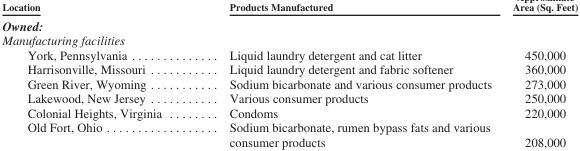table: (1, 0, 577, 148)
table column: (194, 0, 501, 148), (1, 0, 194, 148), (501, 0, 577, 148)
table column header: (1, 0, 577, 15)
table projected row header: (1, 15, 577, 32), (1, 32, 577, 46)
table row: (1, 119, 577, 148), (1, 15, 577, 32), (1, 0, 577, 15), (1, 46, 577, 61), (1, 61, 577, 76), (1, 90, 577, 105), (1, 32, 577, 46), (1, 76, 577, 90), (1, 105, 577, 119)
